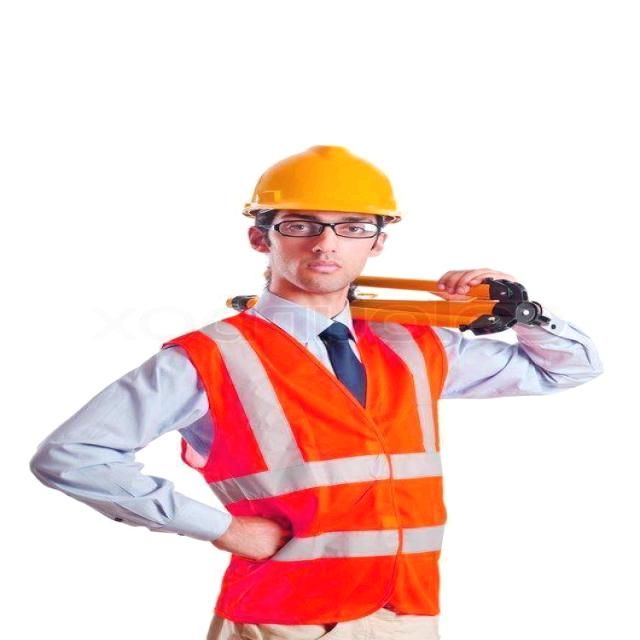face_nomask: (248, 218, 388, 293)
glasses: (263, 215, 388, 242)
hand_noglove: (217, 515, 297, 573), (433, 262, 517, 300)
head_helmet: (243, 148, 402, 210)
person: (133, 134, 524, 637)
vest: (173, 302, 432, 616)
